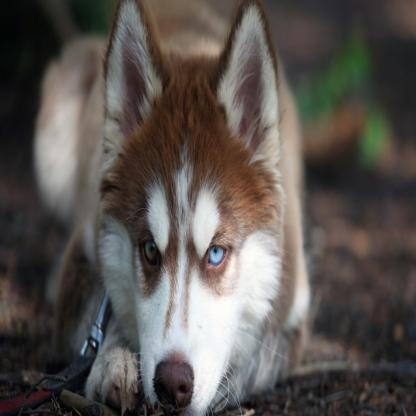dog: (39, 0, 315, 413)
